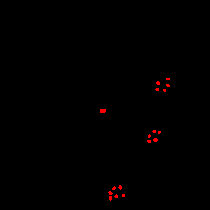Target: (100, 109, 106, 113), (153, 138, 158, 142), (118, 185, 122, 190), (108, 191, 113, 195), (156, 81, 160, 85), (112, 186, 116, 190), (114, 194, 118, 198), (109, 196, 112, 201), (166, 84, 170, 87), (155, 88, 159, 91), (152, 130, 156, 133), (148, 134, 151, 138), (147, 140, 151, 143), (163, 89, 166, 92), (158, 131, 161, 134), (122, 194, 125, 197), (166, 78, 170, 80)
